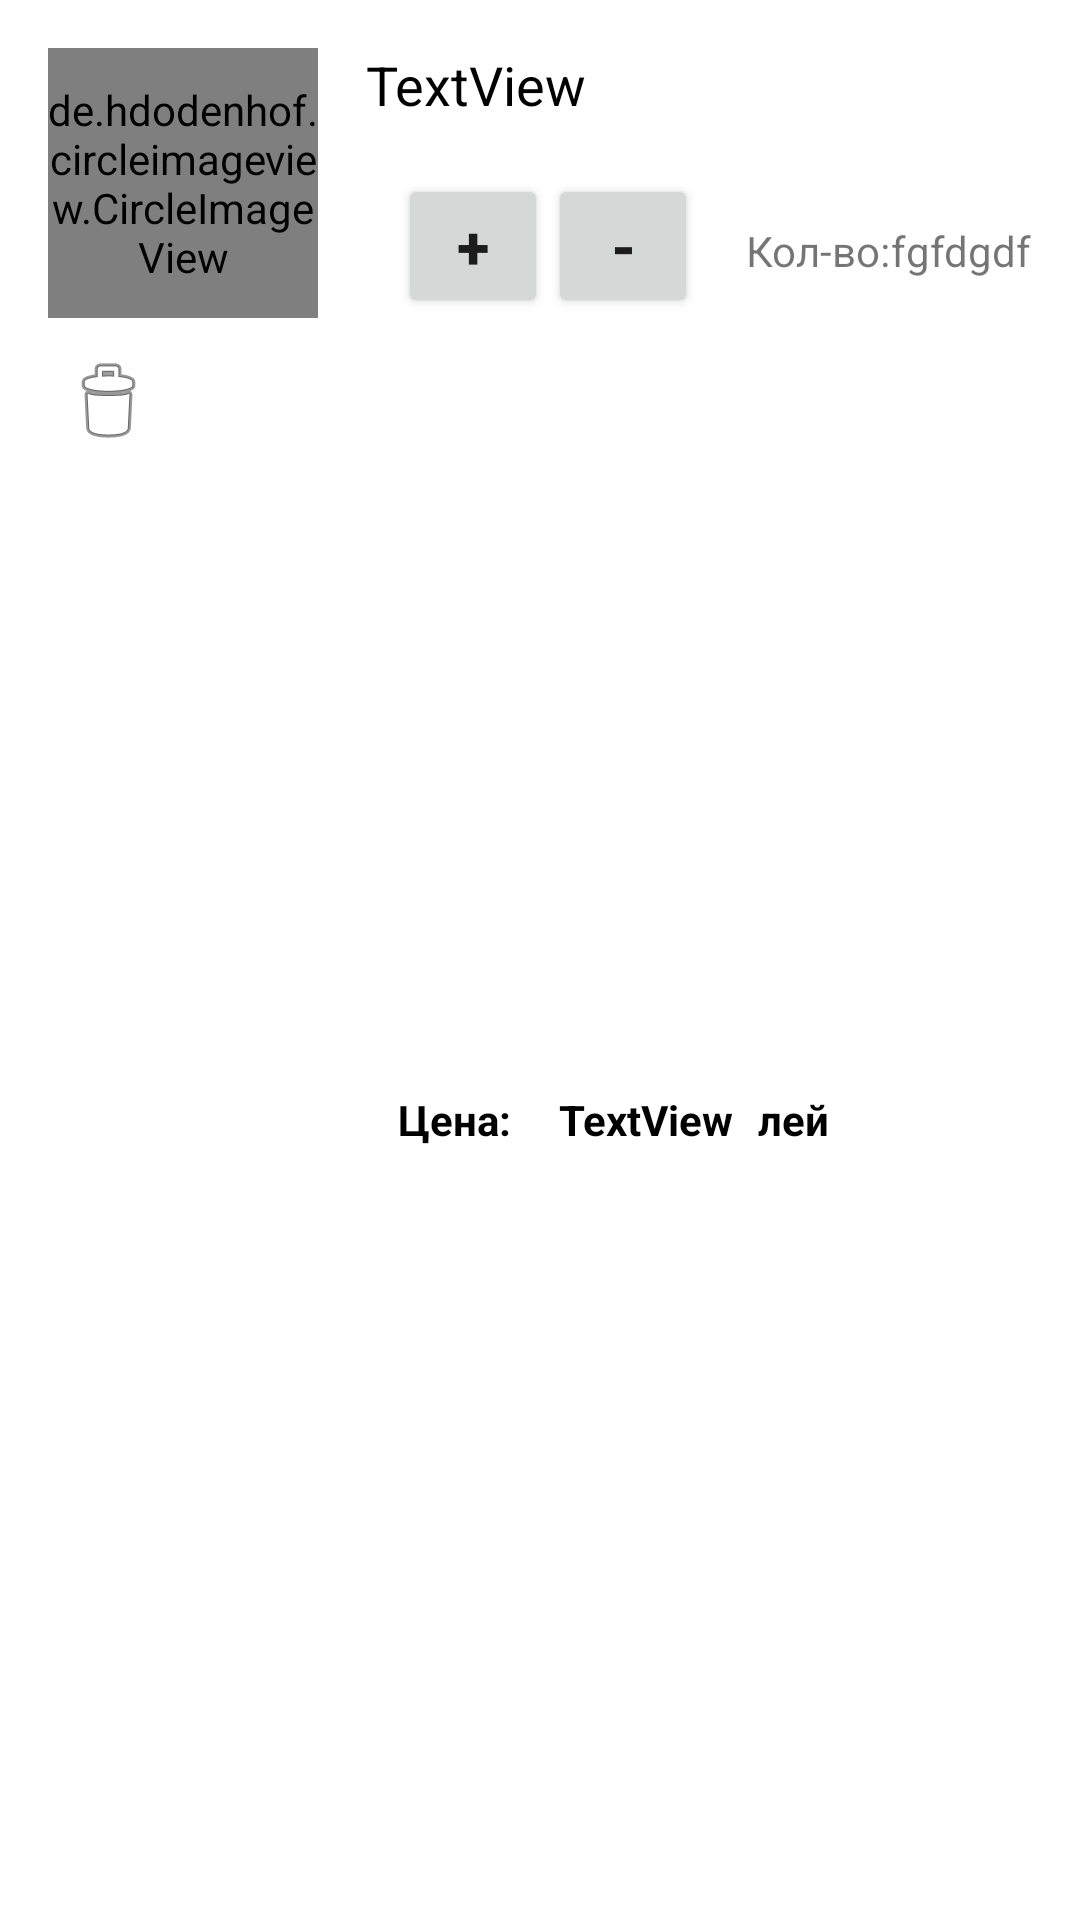

Point at icon controls on the screen. Image size 1080px x 1920px, points as (x,y).
delete: (108,400)
